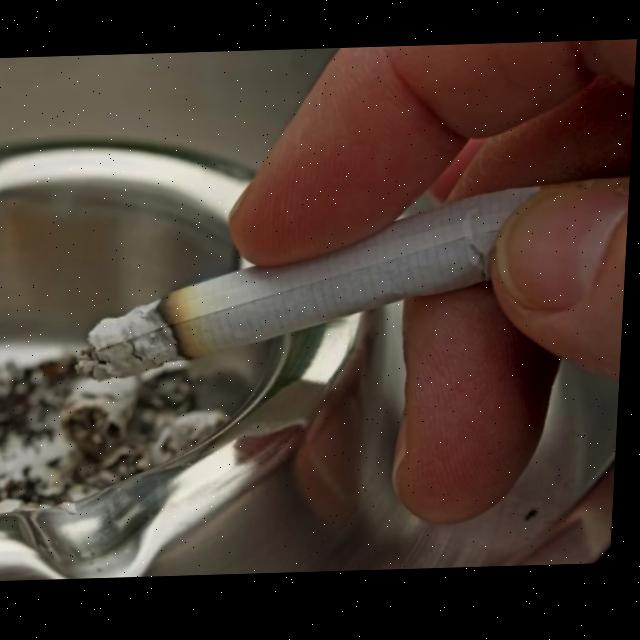cigarette: (78, 189, 544, 384)
